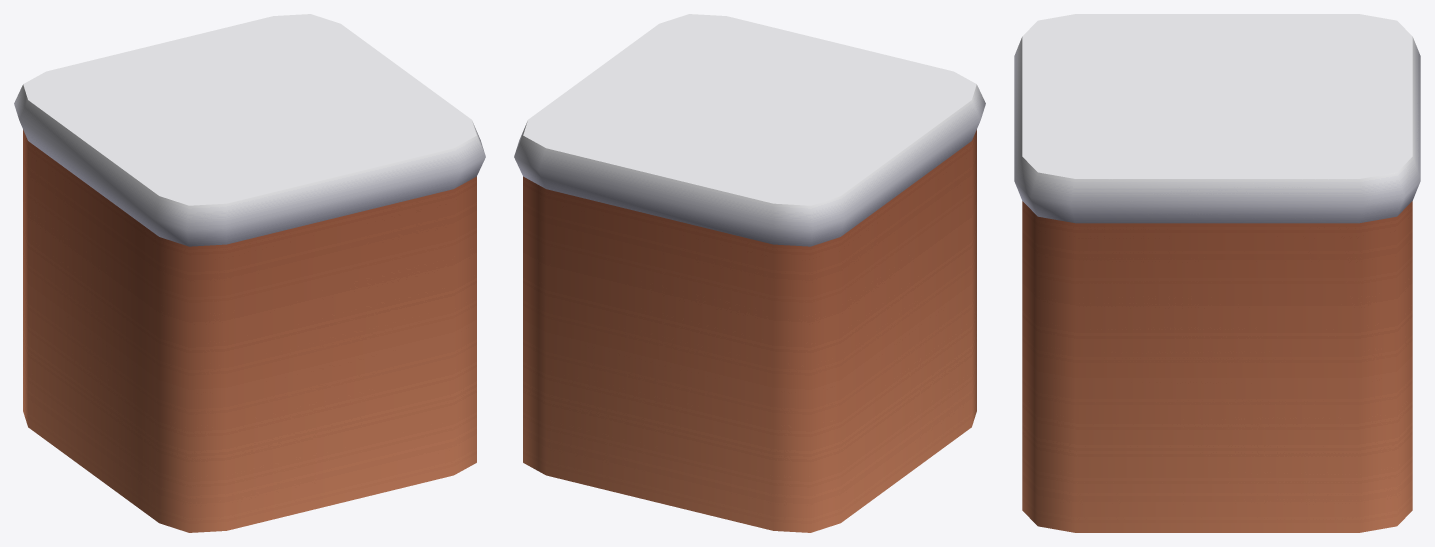
The model's file is block-snow-large-tall.glb.
3 renders of one model, left to right at view 1: azimuth 30°, elevation 25°; view 2: azimuth 150°, elevation 25°; view 3: azimuth 270°, elevation 25°, orthographic. The views are drawn at different scales.
Parts seen in each view (by area): view 1: block-snow-large-tall; view 2: block-snow-large-tall; view 3: block-snow-large-tall.
Boxes of the visible parts, bbox=[...] form: block-snow-large-tall: bbox=[14, 14, 485, 532]; block-snow-large-tall: bbox=[514, 14, 985, 532]; block-snow-large-tall: bbox=[1014, 14, 1420, 532].
Size of the model in its own units: 2.08 by 2 by 2.08.
Materials: 1 (1 with a texture image).
